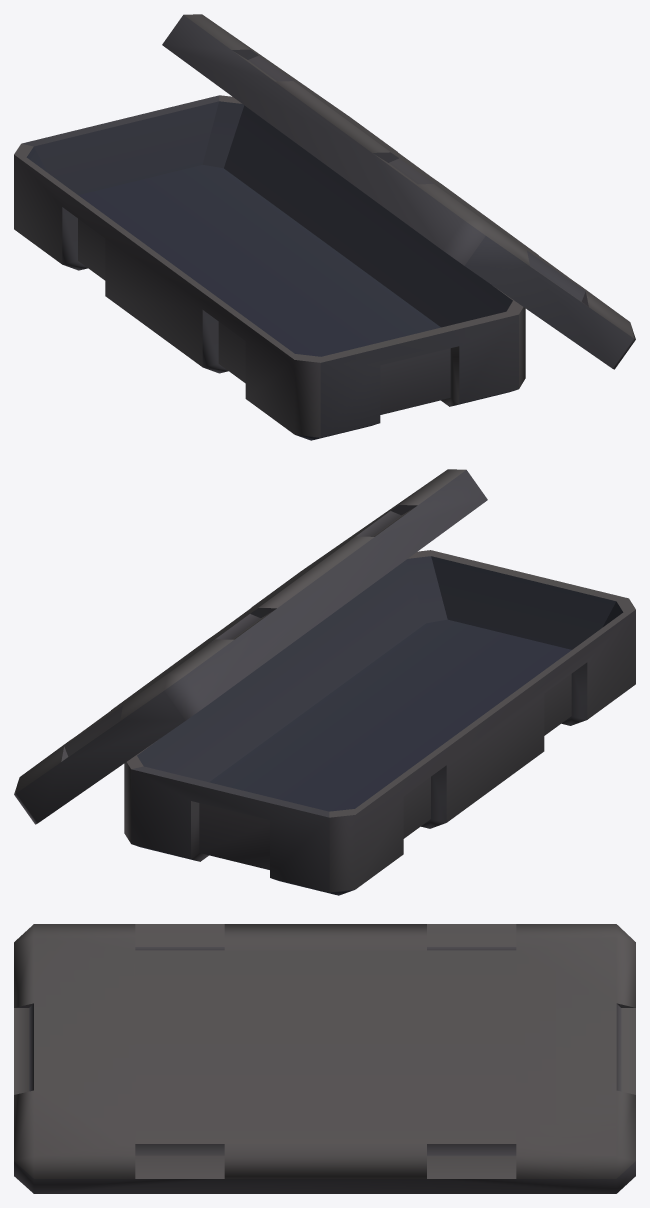
The model's file is MilitaryCrateCase_Open.fbx.
The picture shows the model from 3 angles, top to bottom: view 1: azimuth 30°, elevation 25°; view 2: azimuth 150°, elevation 25°; view 3: azimuth 270°, elevation 25°; orthographic projection. The views are drawn at different scales.
Visible parts, largest first — view 1: MilitaryCrateCase_Open; view 2: MilitaryCrateCase_Open; view 3: MilitaryCrateCase_Open.
Boxes of the visible parts, <box> form: MilitaryCrateCase_Open: <box>14,14,635,440</box>; MilitaryCrateCase_Open: <box>14,469,635,895</box>; MilitaryCrateCase_Open: <box>14,924,635,1193</box>.
Bounding box in the file's own units: 125 × 65.31 × 190.
